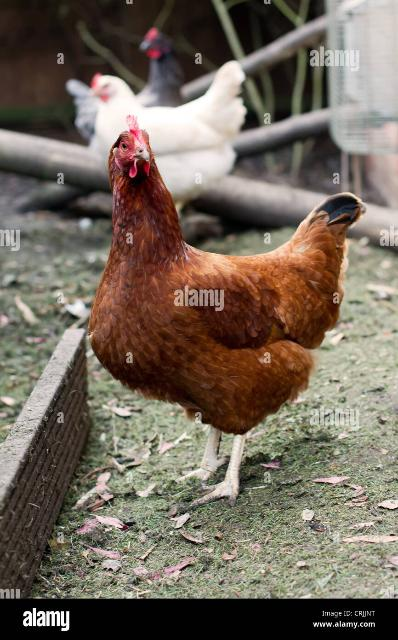Chicken: (89, 114, 369, 500), (89, 60, 248, 201), (132, 25, 186, 109)
